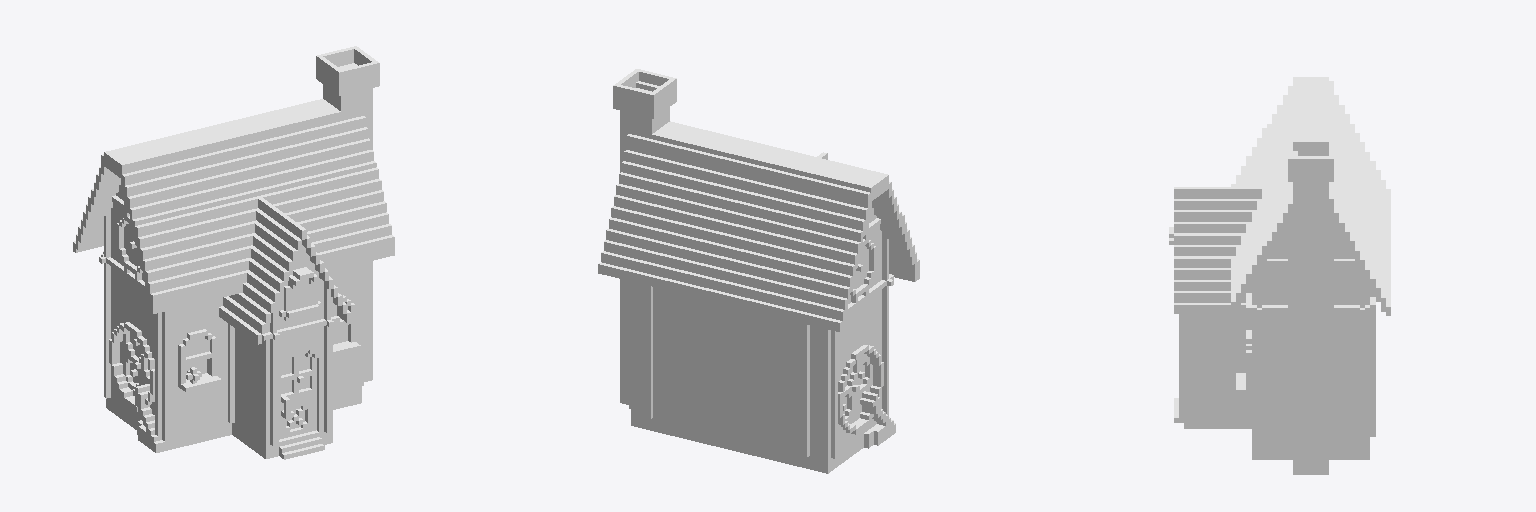
Rendered from hiroin.obj.
3 renders of one model, left to right at view 1: azimuth 30°, elevation 25°; view 2: azimuth 150°, elevation 25°; view 3: azimuth 270°, elevation 25°, orthographic.
Parts seen in each view (by area): view 1: hiroin; view 2: hiroin; view 3: hiroin.
Part boxes in pixels (x1,y1,x2,y2): hiroin: (73,46,394,459); hiroin: (598,69,919,473); hiroin: (1169,77,1390,474).
Size of the model in its own units: 57 by 68 by 43.